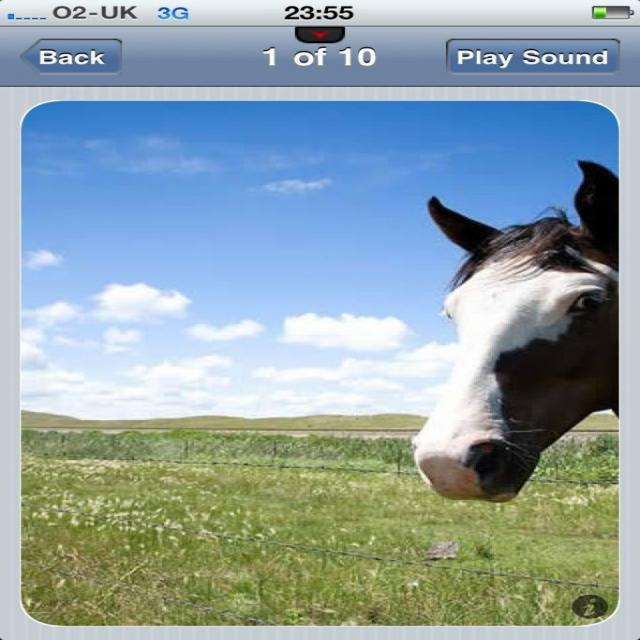Horse: (411, 158, 616, 508)
